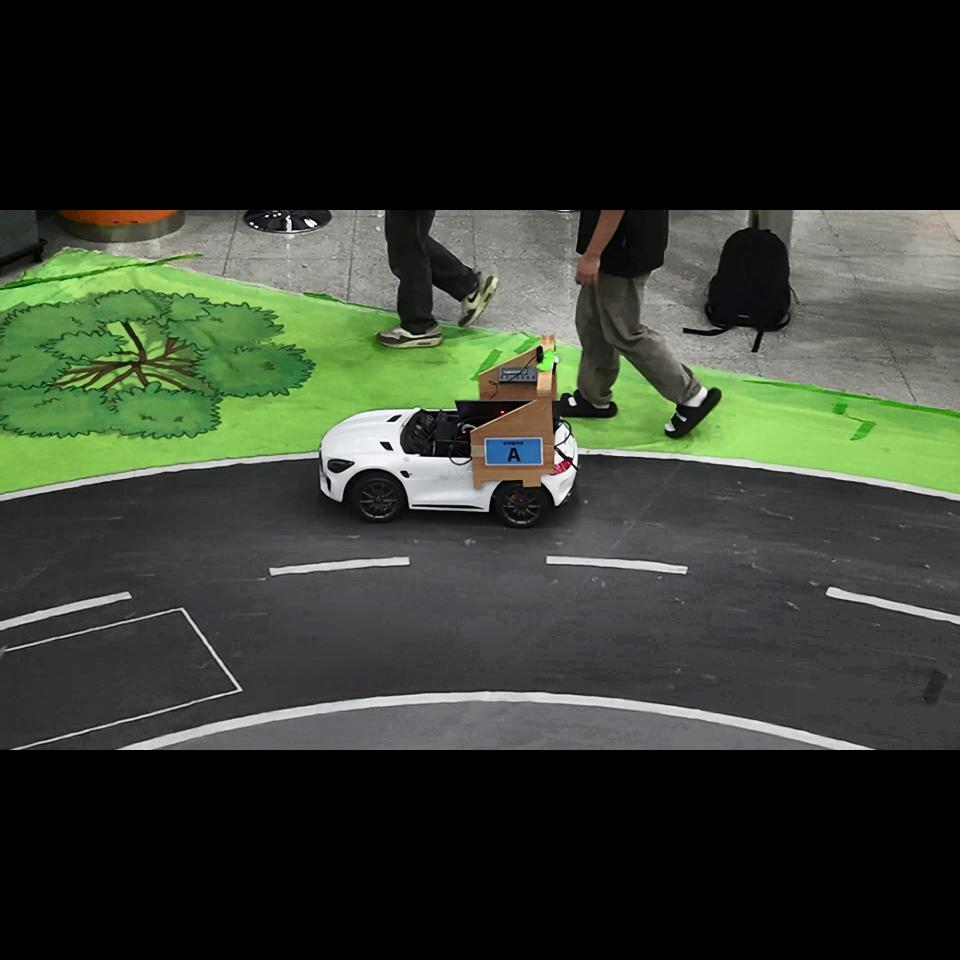broken_line: (0, 591, 132, 631), (825, 587, 960, 625), (268, 556, 411, 576), (546, 556, 689, 575)
